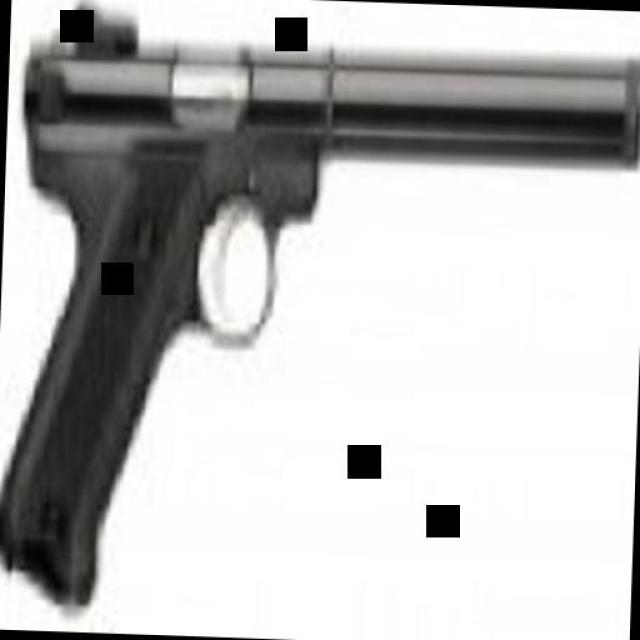gun: (13, 4, 638, 612)
